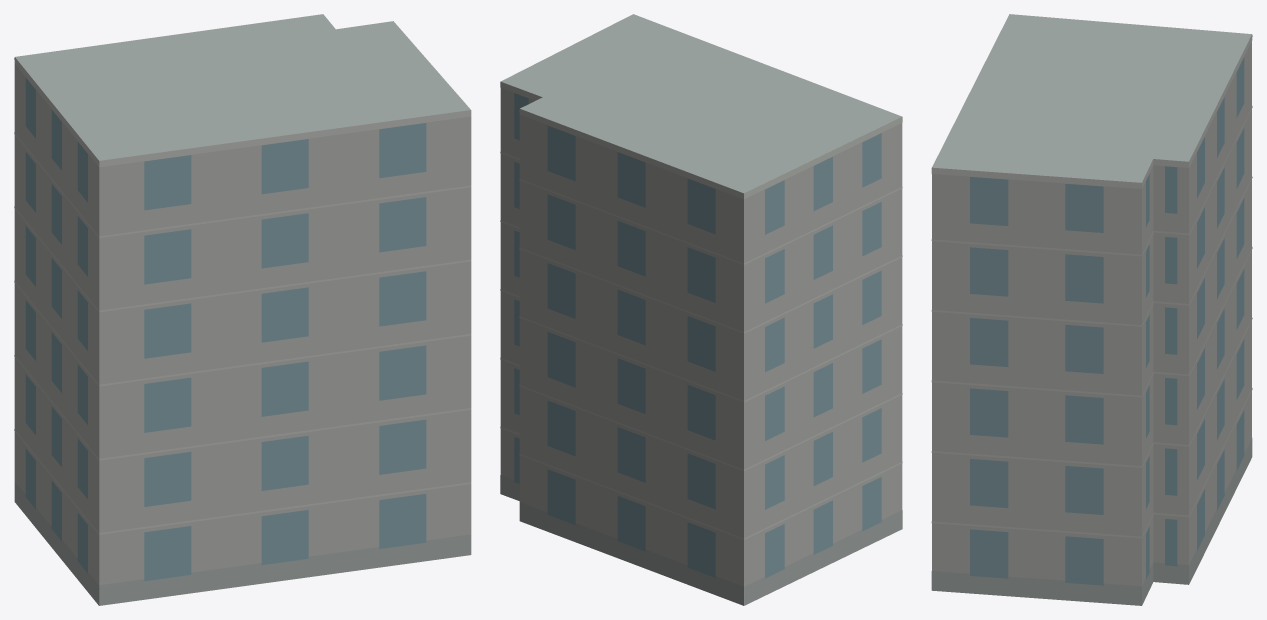
File: survey-upis-32618497.glb
3 views of the same model, side by side, from view 1: azimuth 30°, elevation 25°; view 2: azimuth 150°, elevation 25°; view 3: azimuth 270°, elevation 25° (orthographic). The views are drawn at different scales.
Visible parts, largest first — view 1: survey-upis-32618497.tmp; view 2: survey-upis-32618497.tmp; view 3: survey-upis-32618497.tmp.
Boxes of the visible parts, x1=… form: survey-upis-32618497.tmp: x1=14, y1=14, x2=471, y2=605; survey-upis-32618497.tmp: x1=500, y1=14, x2=902, y2=605; survey-upis-32618497.tmp: x1=931, y1=14, x2=1252, y2=605.
Bounding box in the file's own units: 14.24 × 16.6 × 11.42.
